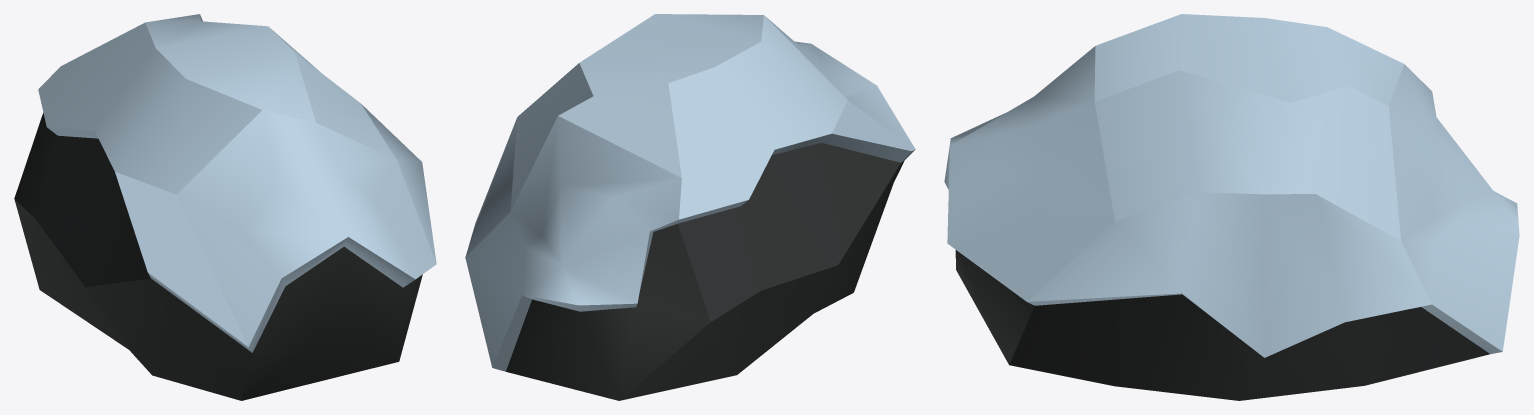
Rendered from M.pedra.fbx.
The picture shows the model from 3 angles, left to right: view 1: azimuth 30°, elevation 25°; view 2: azimuth 150°, elevation 25°; view 3: azimuth 270°, elevation 25°; orthographic projection. The views are drawn at different scales.
Parts seen in each view (by area): view 1: pCylinder17; view 2: pCylinder17; view 3: pCylinder17.
Part boxes in pixels (x1,y1,x2,y2): pCylinder17: (14,14,436,400); pCylinder17: (465,14,915,400); pCylinder17: (944,14,1519,400).
Bounding box in the file's own units: 2.61 × 1.96 × 3.61.
